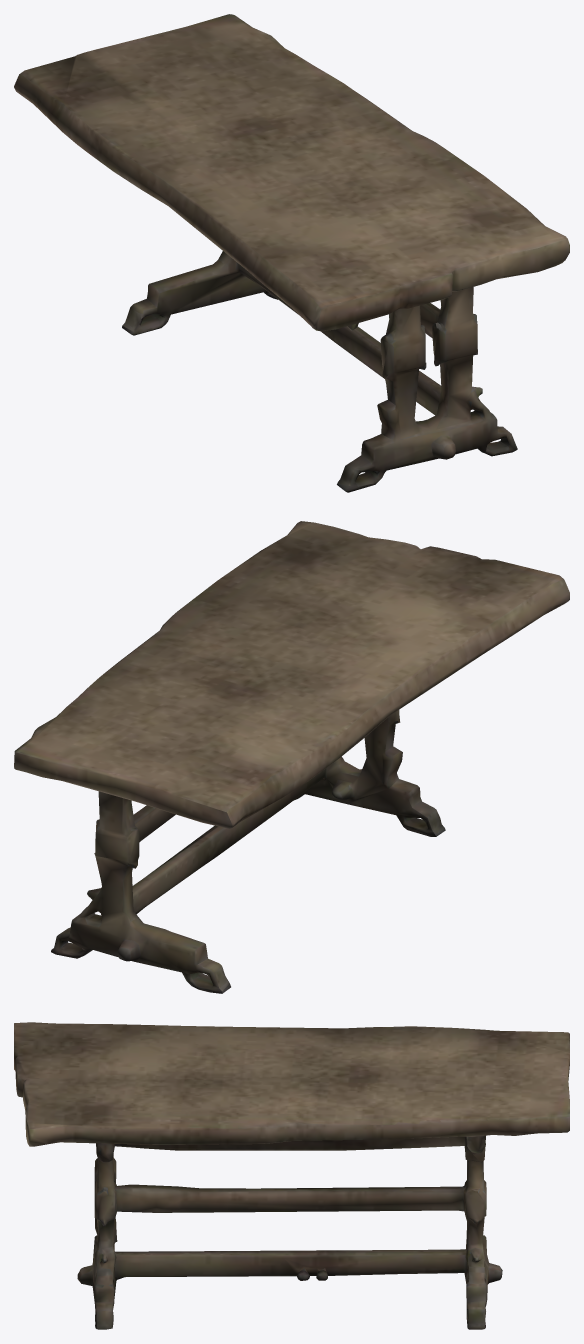
Rendered from rustic-wood-banquet-table-v001.glb.
The picture shows the model from 3 angles, top to bottom: view 1: azimuth 30°, elevation 25°; view 2: azimuth 150°, elevation 25°; view 3: azimuth 270°, elevation 25°; orthographic projection. The views are drawn at different scales.
Parts seen in each view (by area): view 1: rustic-wood-banquet-table; view 2: rustic-wood-banquet-table; view 3: rustic-wood-banquet-table.
Part boxes in pixels (bbox=[...]): rustic-wood-banquet-table: bbox=[14, 14, 569, 492]; rustic-wood-banquet-table: bbox=[14, 521, 569, 993]; rustic-wood-banquet-table: bbox=[14, 1022, 569, 1329].
Bounding box in the file's own units: 0.9046 × 0.7886 × 1.89.
1 material, 1 textured.
